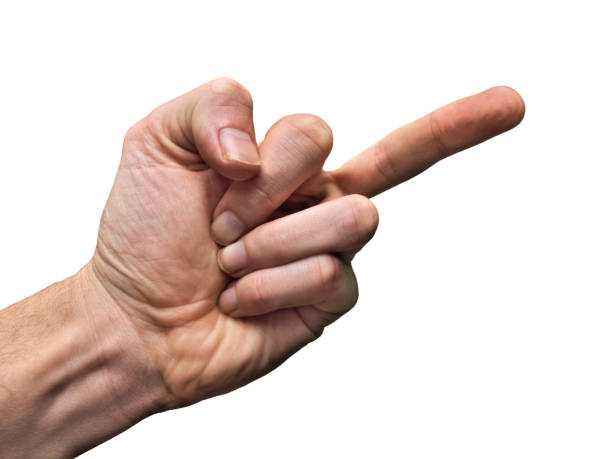insulting_gesture: (96, 76, 529, 395)
